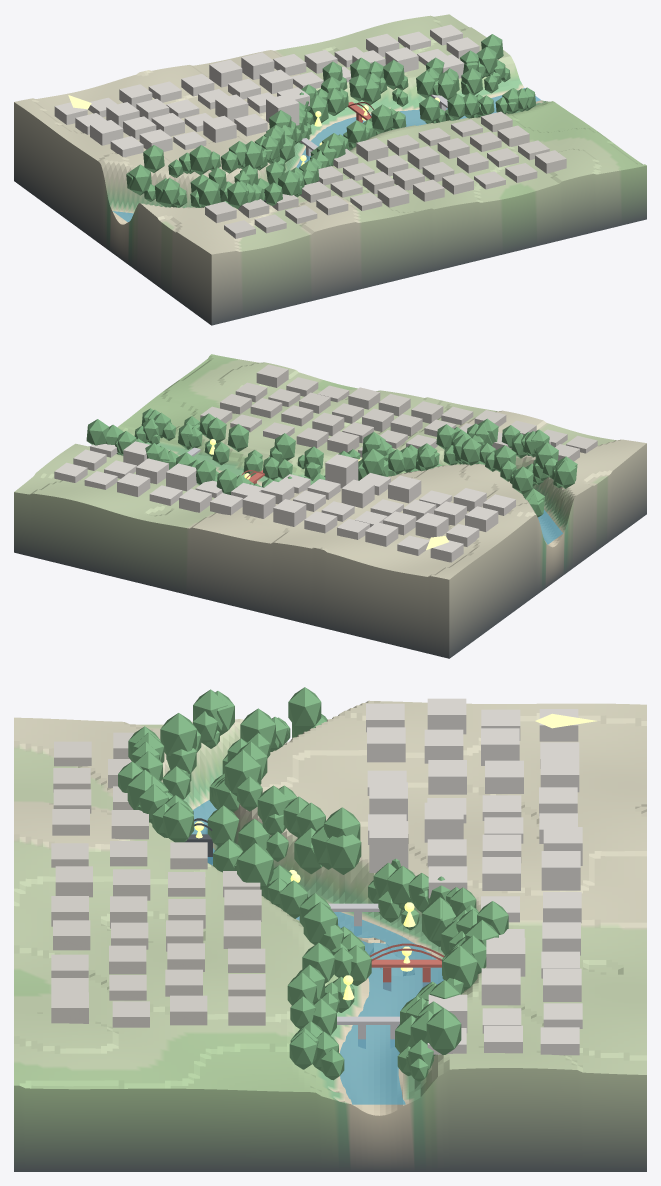
Rendered from rio_ctalamochita_qgis.glb.
3 renders of one model, top to bottom at view 1: azimuth 30°, elevation 25°; view 2: azimuth 150°, elevation 25°; view 3: azimuth 270°, elevation 25°, orthographic. The views are drawn at different scales.
Parts seen in each view (by area): view 1: Terreno_Ctalamochita_DEM, Vegetacion_Sauces_Costanera, Urbano_Villa_Maria, Urbano_Villa_Nueva, Rio_Ctalamochita_Agua; view 2: Terreno_Ctalamochita_DEM, Urbano_Villa_Maria, Vegetacion_Sauces_Costanera, Urbano_Villa_Nueva, Rio_Ctalamochita_Agua; view 3: Terreno_Ctalamochita_DEM, Vegetacion_Sauces_Costanera, Urbano_Villa_Maria, Urbano_Villa_Nueva, Rio_Ctalamochita_Agua, Puente_Alberdi_Historico, Puente_Velez_Sarsfield.
Boxes of the visible parts, bbox=[...] form: Terreno_Ctalamochita_DEM: bbox=[14, 14, 646, 325]; Vegetacion_Sauces_Costanera: bbox=[126, 34, 535, 208]; Urbano_Villa_Maria: bbox=[54, 24, 497, 157]; Urbano_Villa_Nueva: bbox=[205, 111, 566, 238]; Rio_Ctalamochita_Agua: bbox=[112, 88, 540, 221]; Terreno_Ctalamochita_DEM: bbox=[14, 354, 646, 658]; Urbano_Villa_Maria: bbox=[54, 441, 515, 562]; Vegetacion_Sauces_Costanera: bbox=[86, 408, 577, 517]; Urbano_Villa_Nueva: bbox=[200, 364, 597, 461]; Rio_Ctalamochita_Agua: bbox=[261, 486, 562, 544]; Terreno_Ctalamochita_DEM: bbox=[14, 700, 646, 1171]; Vegetacion_Sauces_Costanera: bbox=[118, 687, 508, 1081]; Urbano_Villa_Maria: bbox=[366, 698, 582, 1055]; Urbano_Villa_Nueva: bbox=[51, 732, 265, 1027]; Rio_Ctalamochita_Agua: bbox=[191, 800, 443, 1104]; Puente_Alberdi_Historico: bbox=[370, 943, 444, 990]; Puente_Velez_Sarsfield: bbox=[337, 1016, 399, 1048].
Bounding box in the file's own units: 28 × 6.69 × 22.
